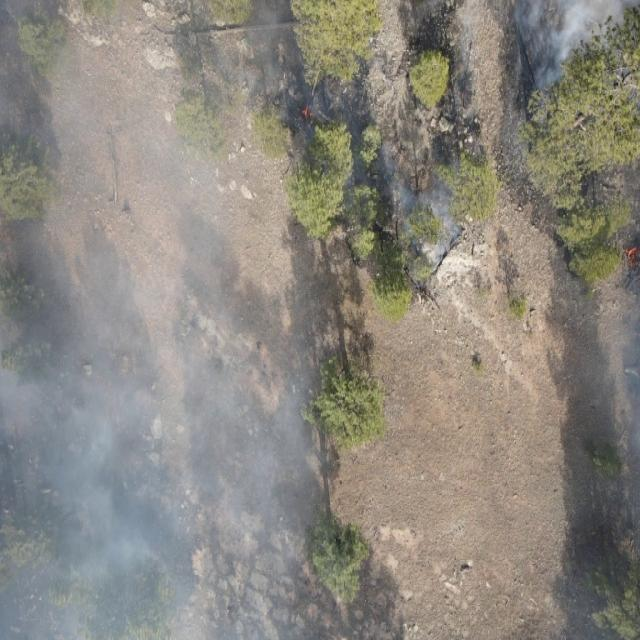fire: (623, 245, 640, 271), (302, 104, 314, 122)
smoke: (0, 0, 356, 640), (589, 231, 640, 527), (508, 0, 640, 110), (378, 144, 466, 278), (435, 0, 477, 66)
